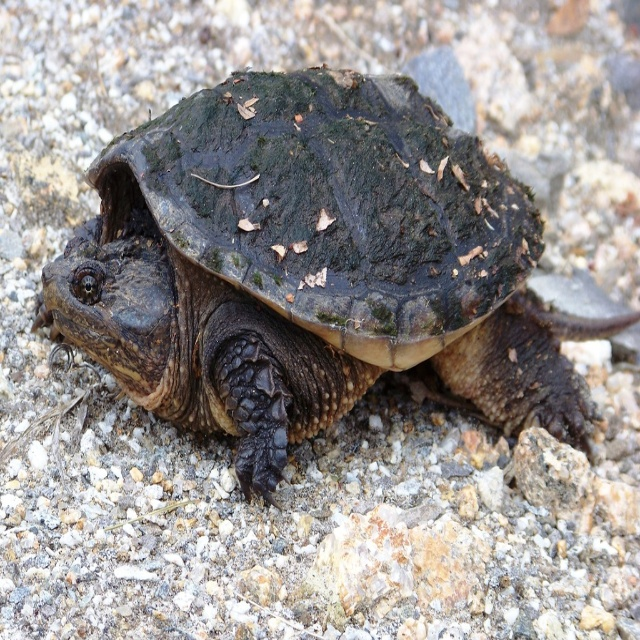Sea turtle: (31, 63, 640, 510)
